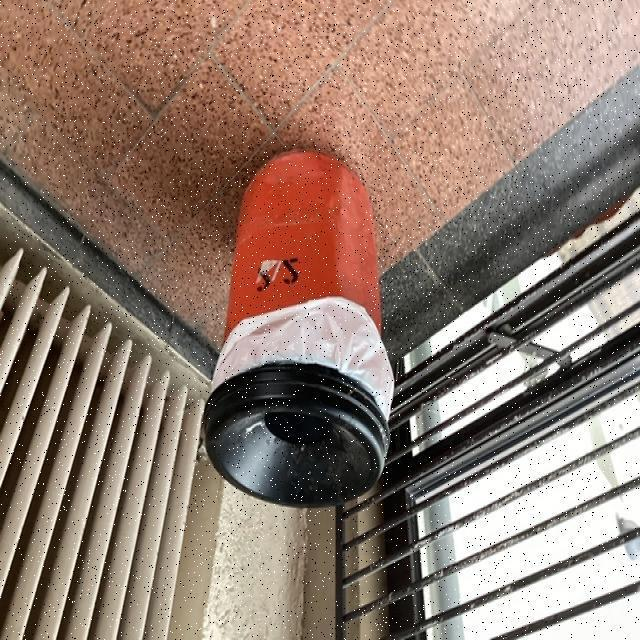garbage container: (188, 127, 406, 556)
